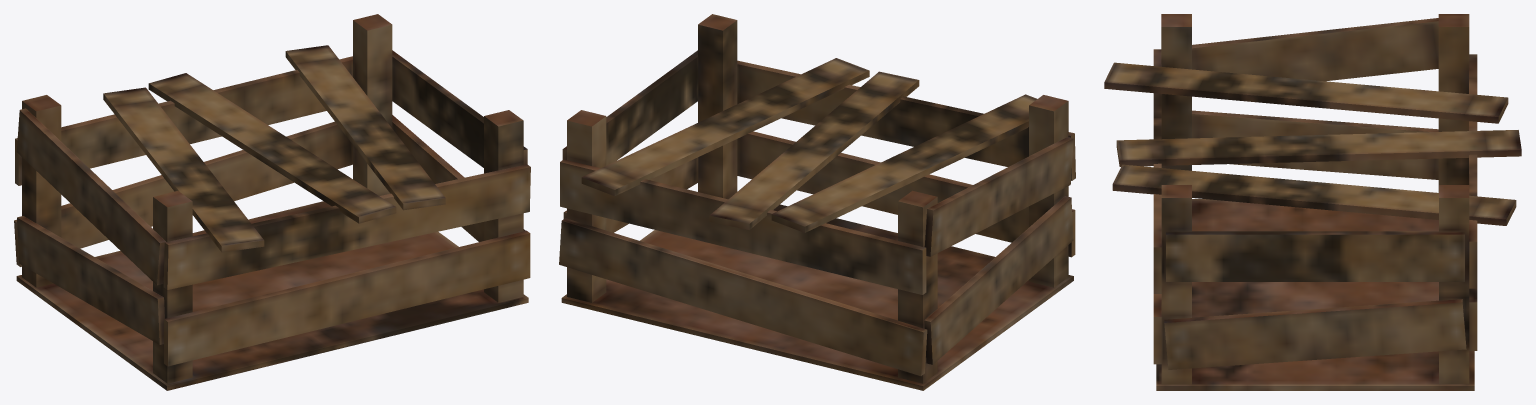
Rendered from Carate.fbx.
The picture shows the model from 3 angles, left to right: view 1: azimuth 30°, elevation 25°; view 2: azimuth 150°, elevation 25°; view 3: azimuth 270°, elevation 25°; orthographic projection. The views are drawn at different scales.
Visible parts, largest first — view 1: Carate; view 2: Carate; view 3: Carate.
Boxes of the visible parts, x1=… form: Carate: x1=14, y1=14, x2=530, y2=390; Carate: x1=559, y1=14, x2=1075, y2=390; Carate: x1=1104, y1=14, x2=1521, y2=390.
Bounding box in the file's own units: 145 × 68.15 × 135.
1 material, 1 textured.
